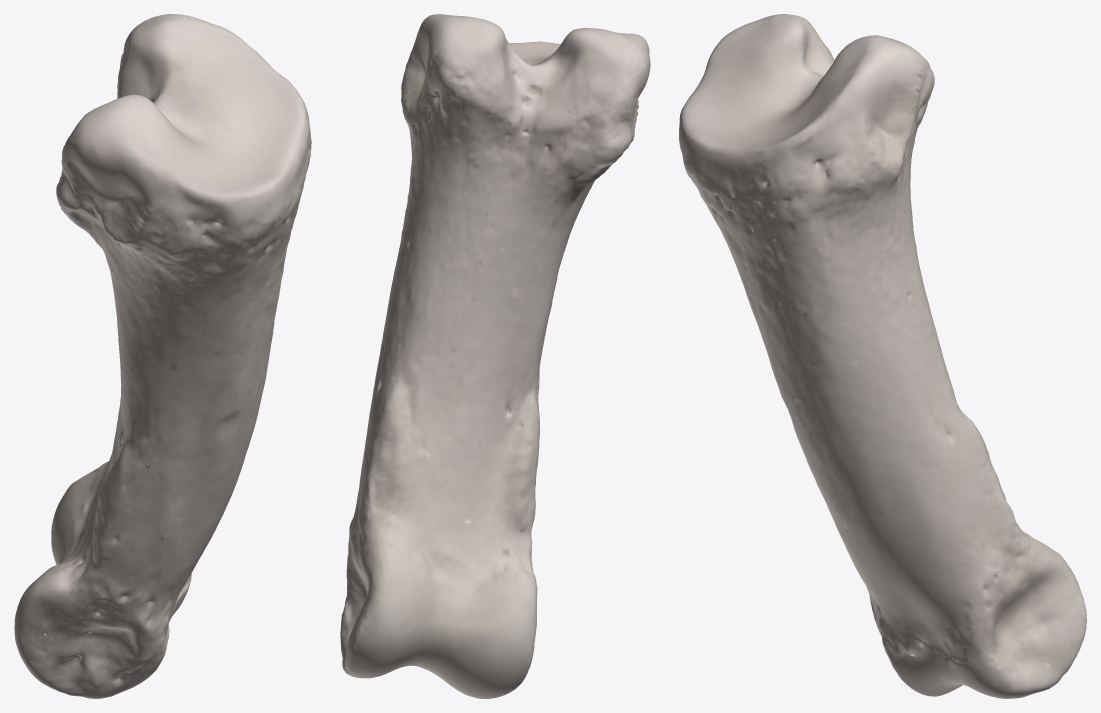
The picture shows the model from 3 angles, left to right: view 1: azimuth 30°, elevation 25°; view 2: azimuth 150°, elevation 25°; view 3: azimuth 270°, elevation 25°; orthographic projection. The views are drawn at different scales.
Visible parts, largest first — view 1: Phalanx_prox._Hund.001; view 2: Phalanx_prox._Hund.001; view 3: Phalanx_prox._Hund.001.
Part boxes in pixels (left/top/right/bottom): Phalanx_prox._Hund.001: left=14, top=14, right=311, bottom=698; Phalanx_prox._Hund.001: left=340, top=14, right=650, bottom=698; Phalanx_prox._Hund.001: left=679, top=14, right=1086, bottom=698.
Size of the model in its own units: 1041 by 2969 by 1632.
Materials: 1 (1 with a texture image).
